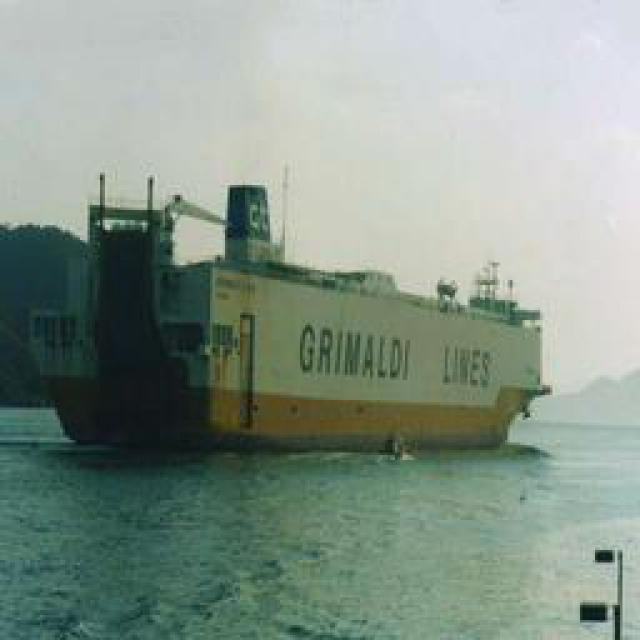Ship: (127, 196, 547, 456)
